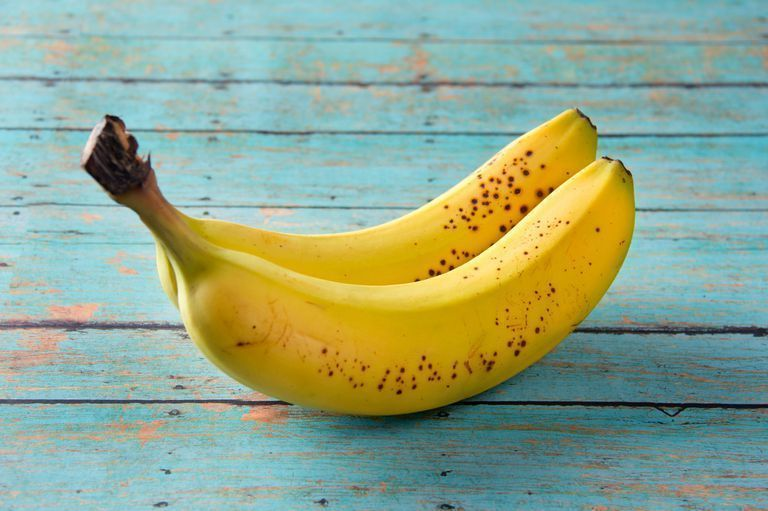banana: (102, 105, 643, 412)
